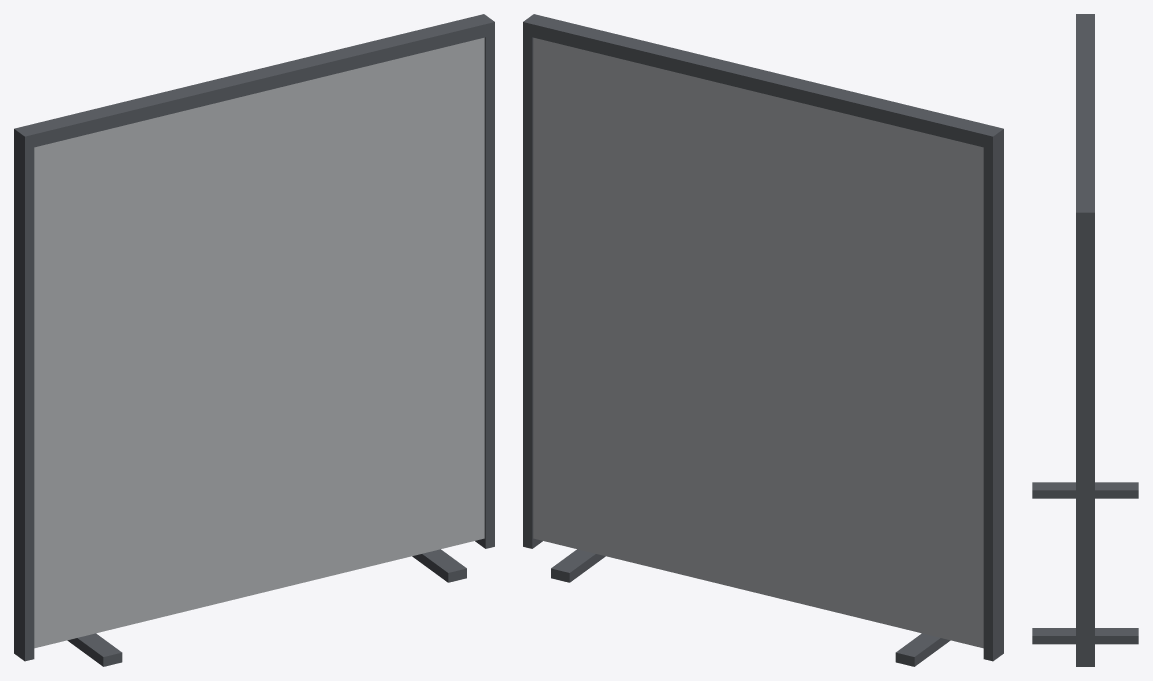
File: GO_Cubicle_Panel_High_01.glb
3 views of the same model, side by side, from view 1: azimuth 30°, elevation 25°; view 2: azimuth 150°, elevation 25°; view 3: azimuth 270°, elevation 25° (orthographic). The views are drawn at different scales.
Parts seen in each view (by area): view 1: GO_Cubicle_Panel_High_01; view 2: GO_Cubicle_Panel_High_01; view 3: GO_Cubicle_Panel_High_01.
Part boxes in pixels (x1,y1,x2,y2): GO_Cubicle_Panel_High_01: (14, 14, 494, 666); GO_Cubicle_Panel_High_01: (523, 14, 1003, 666); GO_Cubicle_Panel_High_01: (1032, 14, 1138, 666).
Size of the model in its own units: 1.5 by 1.6 by 0.34.
Materials: 1 (1 with a texture image).
